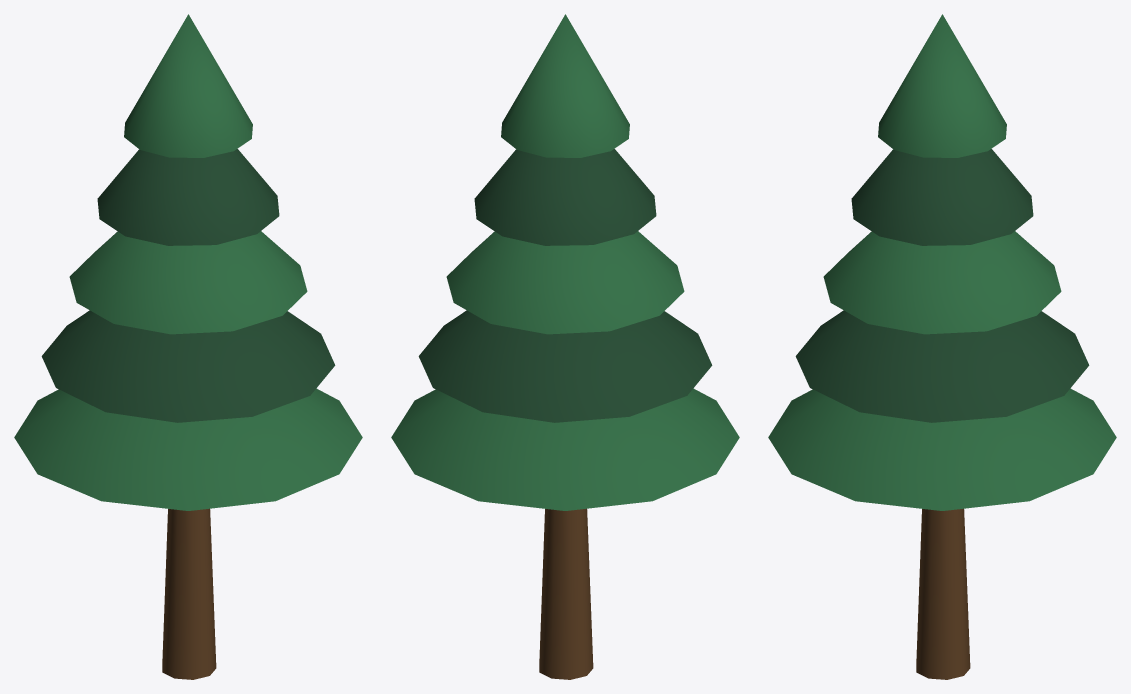
File: arbre_foret_1.glb
3 views of the same model, side by side, from view 1: azimuth 30°, elevation 25°; view 2: azimuth 150°, elevation 25°; view 3: azimuth 270°, elevation 25° (orthographic).
Visible parts, largest first — view 1: pin_etage_0.002, pin_etage_1.002, pin_etage_2.002, pin_etage_3.002, pin_etage_4.002, pin_tronc.002; view 2: pin_etage_0.002, pin_etage_1.002, pin_etage_2.002, pin_etage_3.002, pin_etage_4.002, pin_tronc.002; view 3: pin_etage_0.002, pin_etage_1.002, pin_etage_2.002, pin_etage_3.002, pin_etage_4.002, pin_tronc.002.
Part boxes in pixels (x1,y1,x2,y2): pin_etage_0.002: [14, 388, 362, 510]; pin_etage_1.002: [41, 310, 335, 422]; pin_etage_2.002: [69, 231, 307, 334]; pin_etage_3.002: [97, 149, 279, 245]; pin_etage_4.002: [124, 14, 252, 157]; pin_tronc.002: [162, 508, 216, 679]; pin_etage_0.002: [391, 388, 739, 510]; pin_etage_1.002: [418, 310, 712, 422]; pin_etage_2.002: [446, 231, 684, 334]; pin_etage_3.002: [474, 149, 656, 245]; pin_etage_4.002: [501, 14, 629, 157]; pin_tronc.002: [539, 508, 593, 679]; pin_etage_0.002: [768, 388, 1116, 510]; pin_etage_1.002: [795, 310, 1089, 422]; pin_etage_2.002: [823, 231, 1061, 334]; pin_etage_3.002: [851, 149, 1033, 245]; pin_etage_4.002: [878, 14, 1006, 157]; pin_tronc.002: [916, 508, 970, 679].
Bounding box in the file's own units: 2.6 × 5.38 × 2.6.
